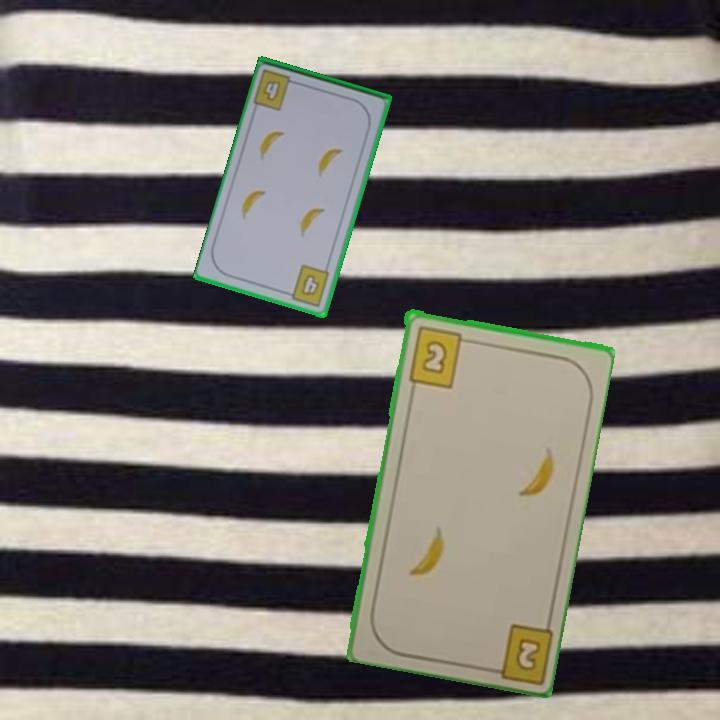2b: (480, 619, 554, 684), (404, 322, 474, 390)
4b: (282, 261, 333, 310), (250, 66, 302, 113)
